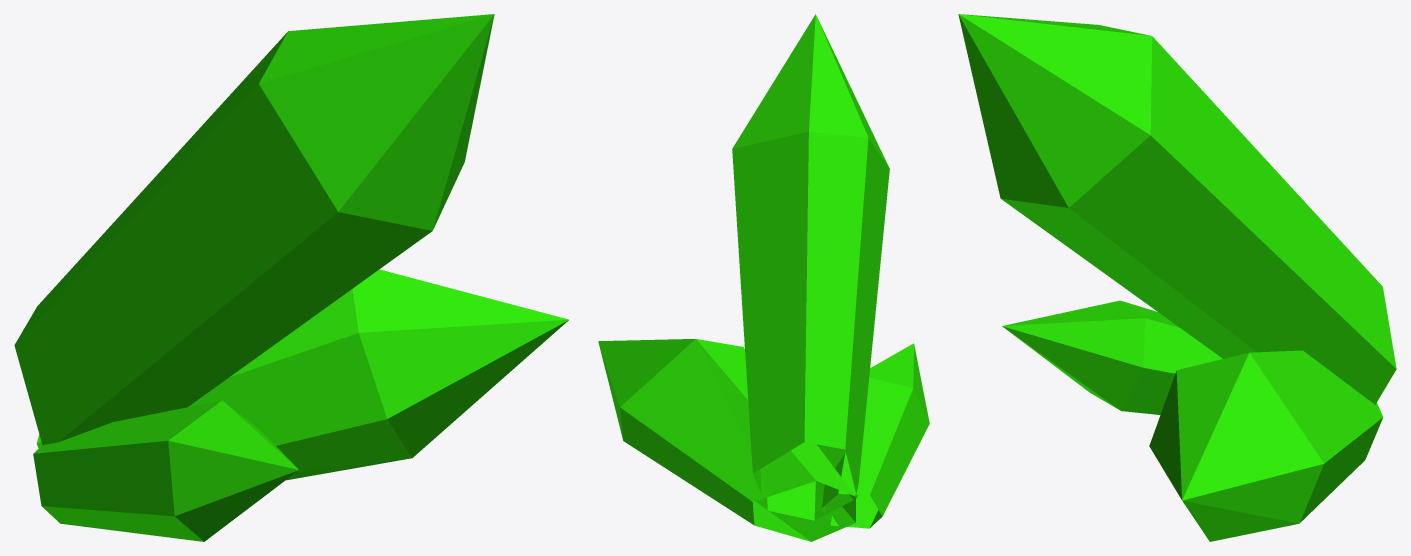
File: cave_crystal_wall4.glb
The picture shows the model from 3 angles, left to right: view 1: azimuth 30°, elevation 25°; view 2: azimuth 150°, elevation 25°; view 3: azimuth 270°, elevation 25°; orthographic projection. The views are drawn at different scales.
Visible parts, largest first — view 1: Crystal-wall04-col; view 2: Crystal-wall04-col; view 3: Crystal-wall04-col.
Part boxes in pixels (box(x1,y1,x2,y2)): Crystal-wall04-col: box(14, 14, 568, 541); Crystal-wall04-col: box(598, 14, 929, 541); Crystal-wall04-col: box(958, 14, 1396, 541).
Size of the model in its own units: 0.9035 by 1.08 by 0.804.
